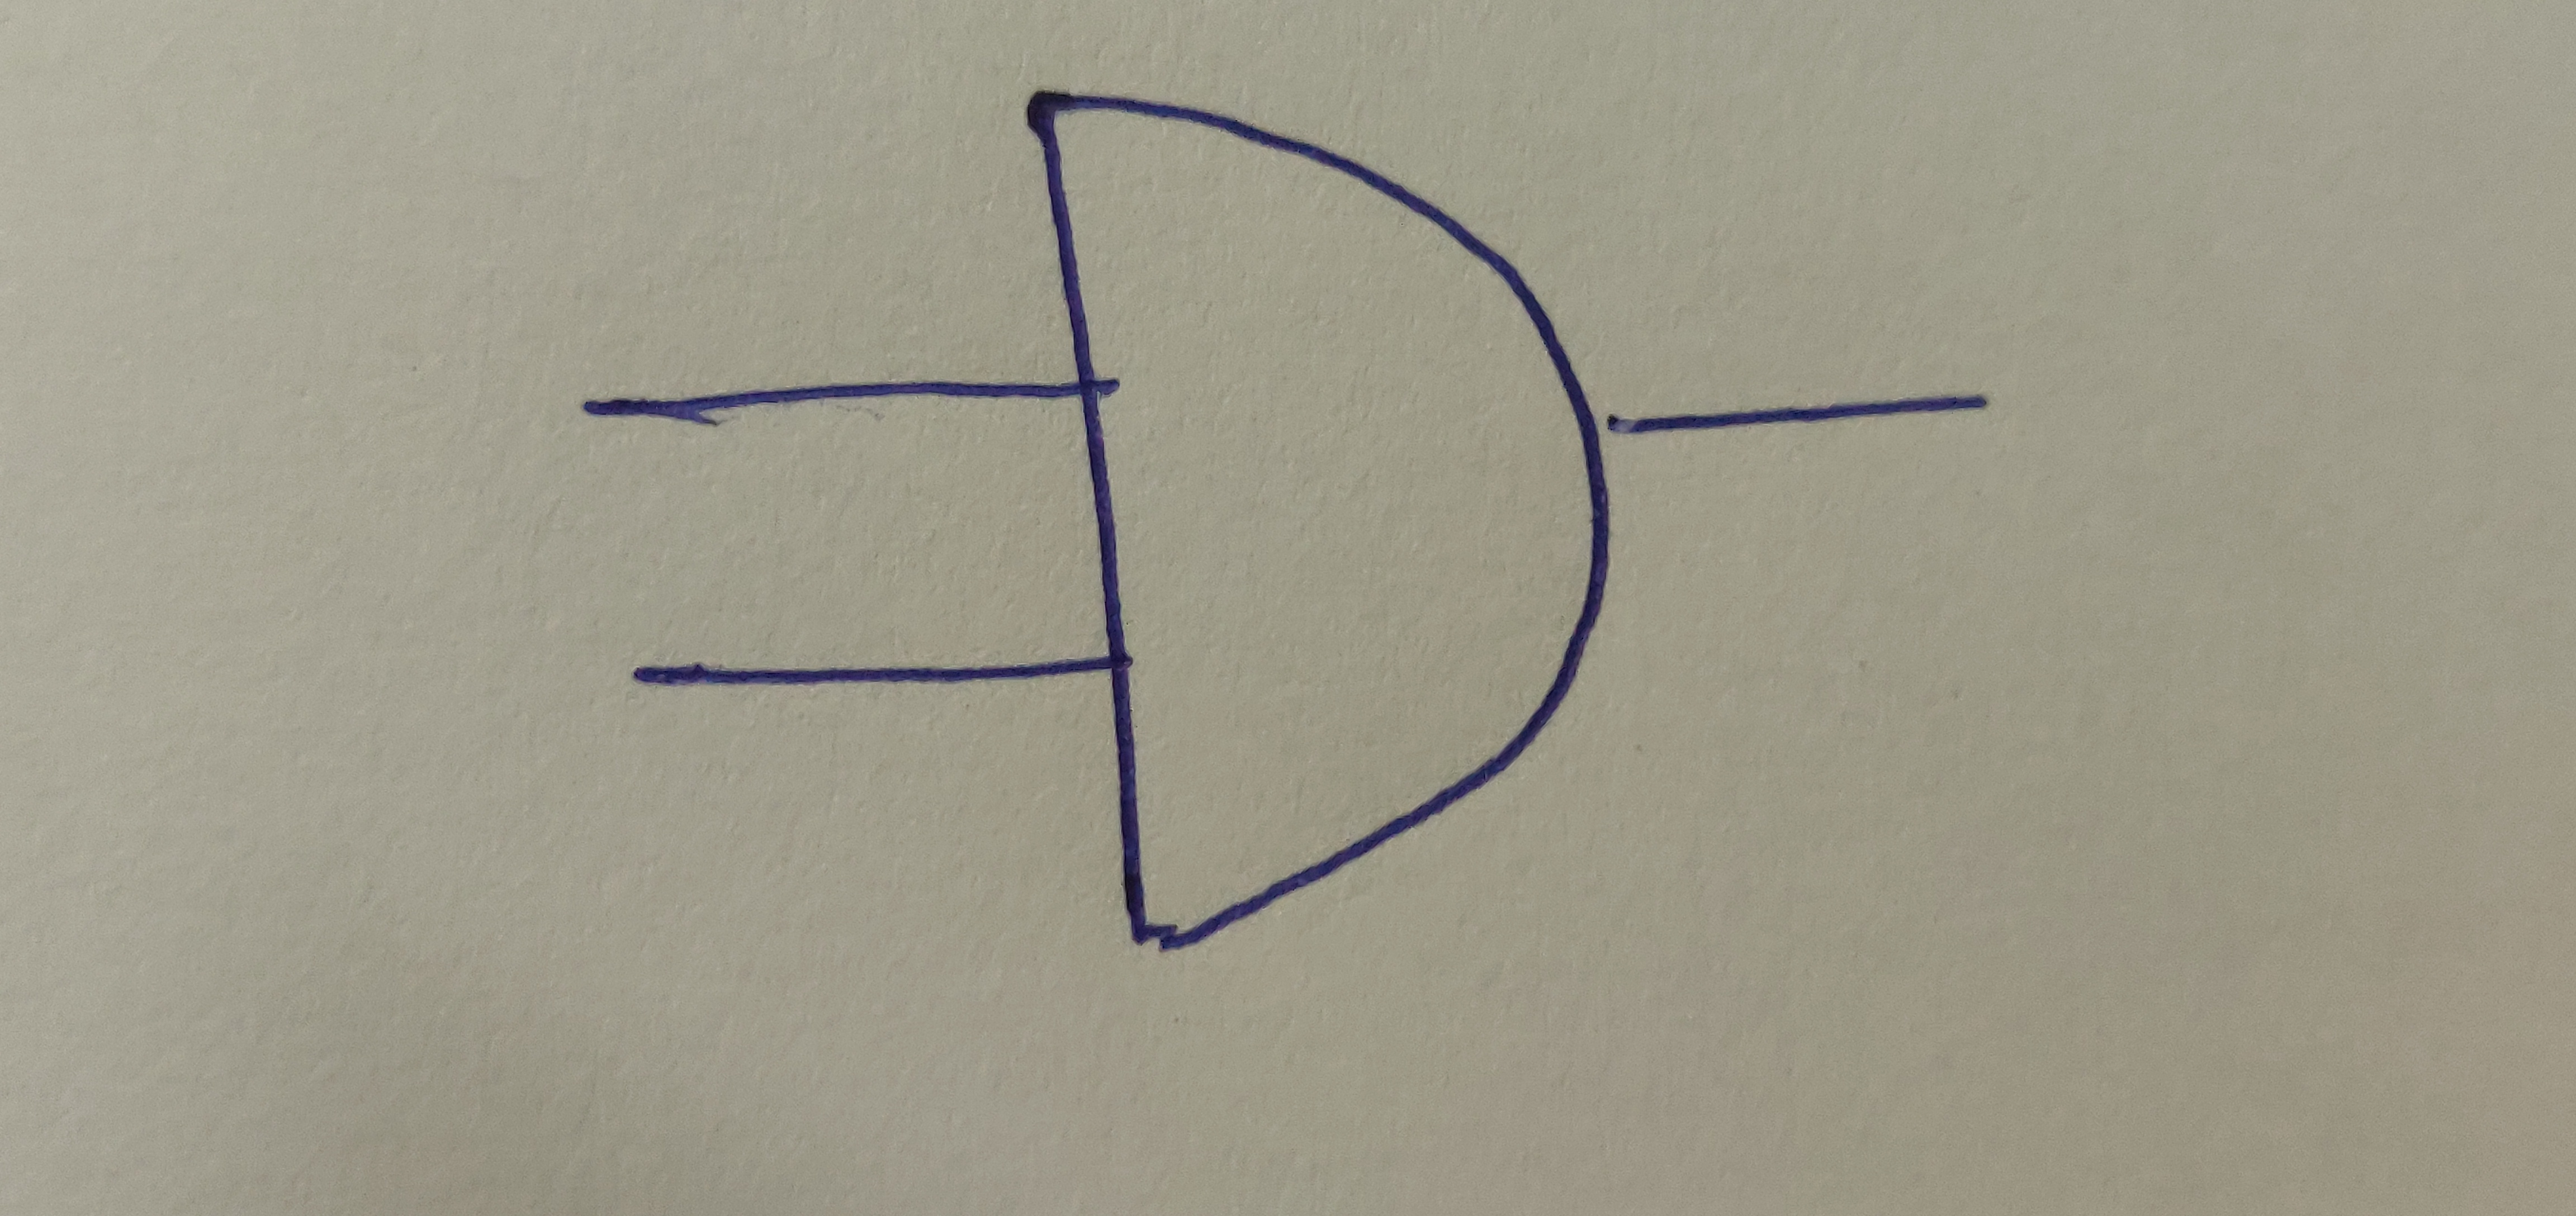and: (1019, 82, 1618, 948)
